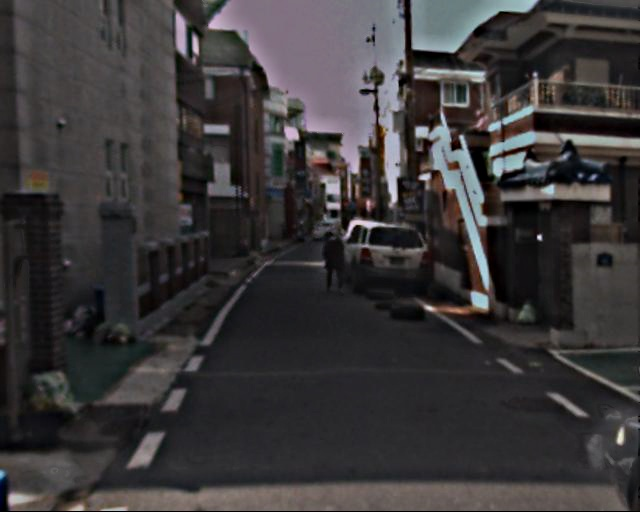person: (319, 226, 349, 299)
